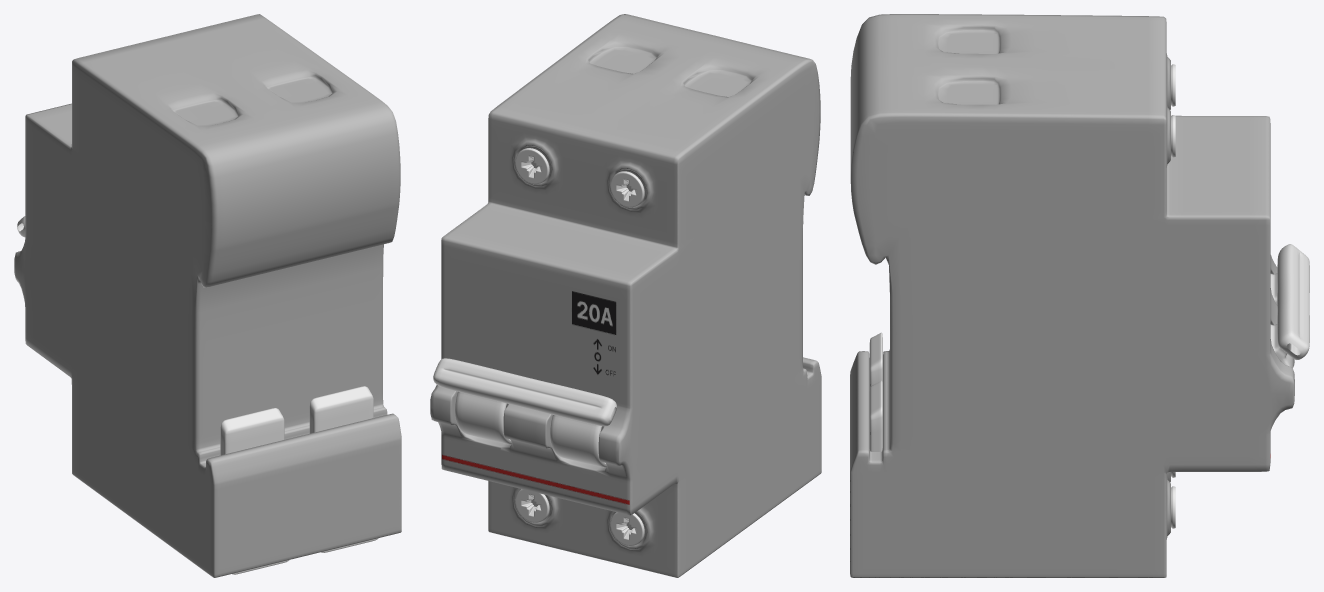
The model's file is Disj20A.fbx.
3 views of the same model, side by side, from view 1: azimuth 30°, elevation 25°; view 2: azimuth 150°, elevation 25°; view 3: azimuth 270°, elevation 25° (orthographic). The views are drawn at different scales.
Parts seen in each view (by area): view 1: Circuit Breaker, Lock.003; view 2: Circuit Breaker, switch.003, screw.001, screw.003, screw.004, screw.002; view 3: Circuit Breaker, switch.003, Lock.003.
Boxes of the visible parts, x1=… form: Circuit Breaker: x1=14, y1=14, x2=401, y2=577; Lock.003: x1=220, y1=386, x2=378, y2=574; Circuit Breaker: x1=430, y1=14, x2=821, y2=577; switch.003: x1=433, y1=358, x2=616, y2=467; screw.001: x1=515, y1=148, x2=549, y2=184; screw.003: x1=610, y1=171, x2=644, y2=207; screw.004: x1=610, y1=512, x2=644, y2=545; screw.002: x1=515, y1=489, x2=549, y2=522; Circuit Breaker: x1=850, y1=14, x2=1294, y2=577; switch.003: x1=1270, y1=244, x2=1309, y2=367; Lock.003: x1=869, y1=332, x2=882, y2=451.
Size of the model in its own units: 0.0422 by 0.0905 by 0.0805.
